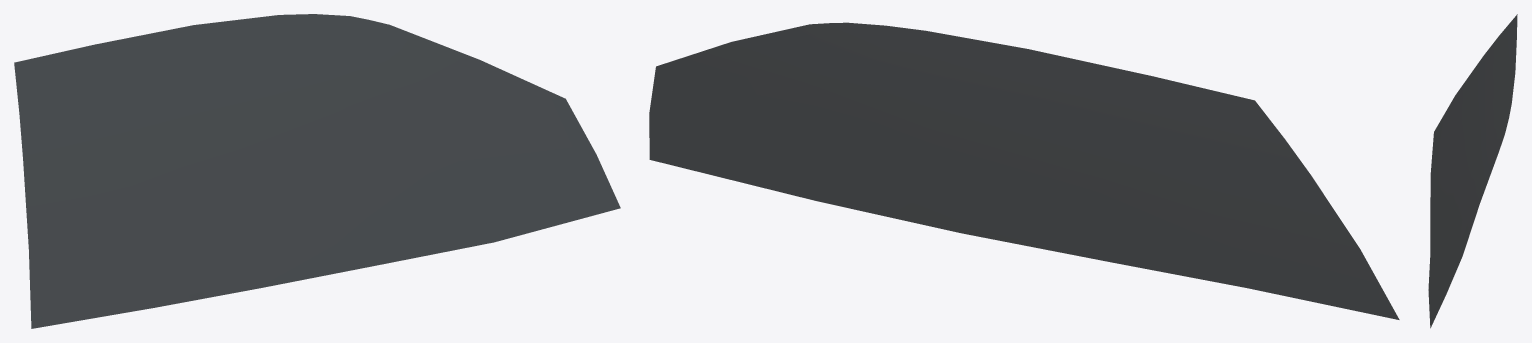
The model's file is gallo99_body_passanger_ucb_lights_and_glass_transperent_0.004_l.glb.
3 views of the same model, side by side, from view 1: azimuth 30°, elevation 25°; view 2: azimuth 150°, elevation 25°; view 3: azimuth 270°, elevation 25° (orthographic). The views are drawn at different scales.
Visible parts, largest first — view 1: gallo99_body_passanger_ucb_lights_and_glass_transperent_0.00; view 2: gallo99_body_passanger_ucb_lights_and_glass_transperent_0.00; view 3: gallo99_body_passanger_ucb_lights_and_glass_transperent_0.00.
Boxes of the visible parts, <box> form: gallo99_body_passanger_ucb_lights_and_glass_transperent_0.00: <box>14,14,620,328</box>; gallo99_body_passanger_ucb_lights_and_glass_transperent_0.00: <box>649,22,1399,319</box>; gallo99_body_passanger_ucb_lights_and_glass_transperent_0.00: <box>1428,14,1517,328</box>.
Size of the model in its own units: 0.9628 by 0.3596 by 0.197.
1 material, 1 textured.
